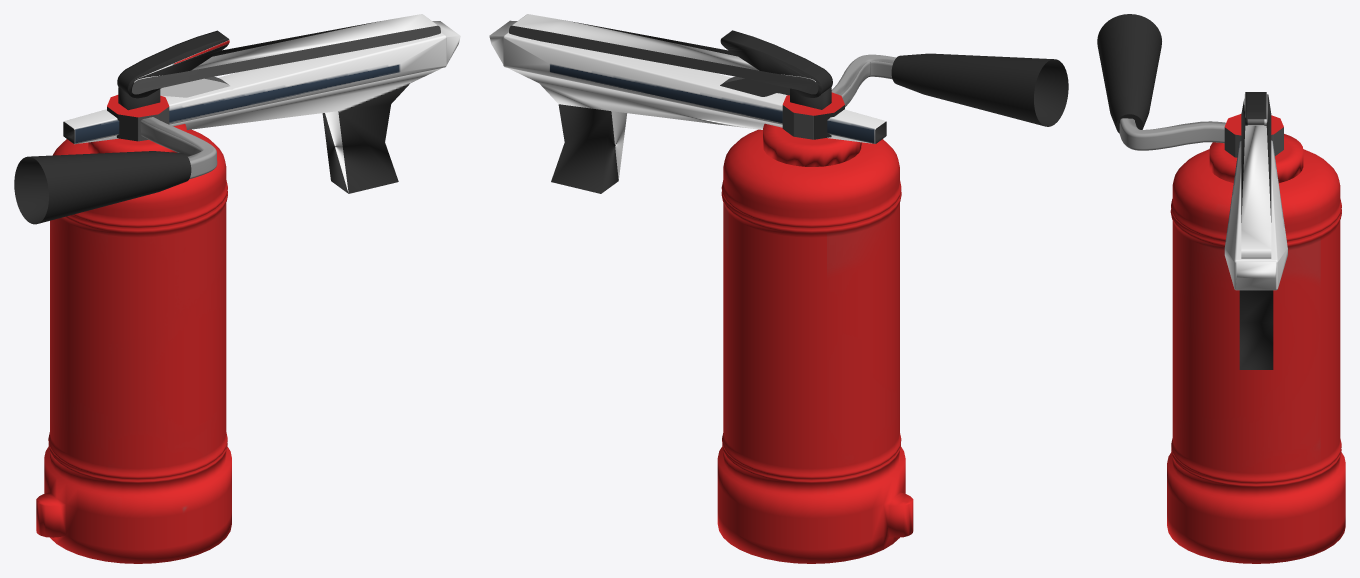
The model's file is extinguisher.fbx.
3 views of the same model, side by side, from view 1: azimuth 30°, elevation 25°; view 2: azimuth 150°, elevation 25°; view 3: azimuth 270°, elevation 25° (orthographic). The views are drawn at different scales.
Parts seen in each view (by area): view 1: Deckfläche 1.1; view 2: Deckfläche 1.1; view 3: Deckfläche 1.1.
Part boxes in pixels (bbox=[...]): Deckfläche 1.1: bbox=[14, 14, 460, 563]; Deckfläche 1.1: bbox=[489, 14, 1068, 563]; Deckfläche 1.1: bbox=[1097, 14, 1345, 563].
Size of the model in its own units: 160 by 147 by 74.03.
Materials: 1 (1 with a texture image).
